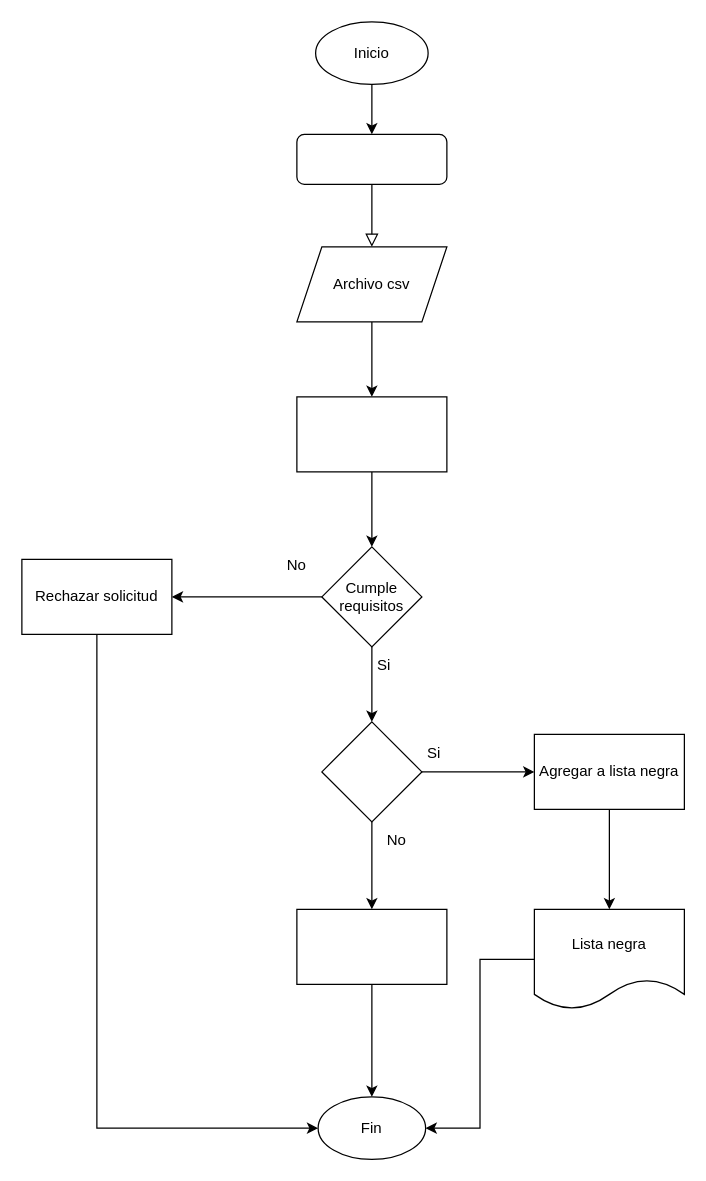
Image size: 706x1181. Some labels were removed from this diagram. Here are the shapes that lost their labels. From the top down, the centre of each, then its label:
pixel 371 158: Lectura archivo csv
pixel 371 434: Validación de cotizastes
pixel 371 771: Esta embargado
pixel 371 946: Agregar a cola de prioridad
